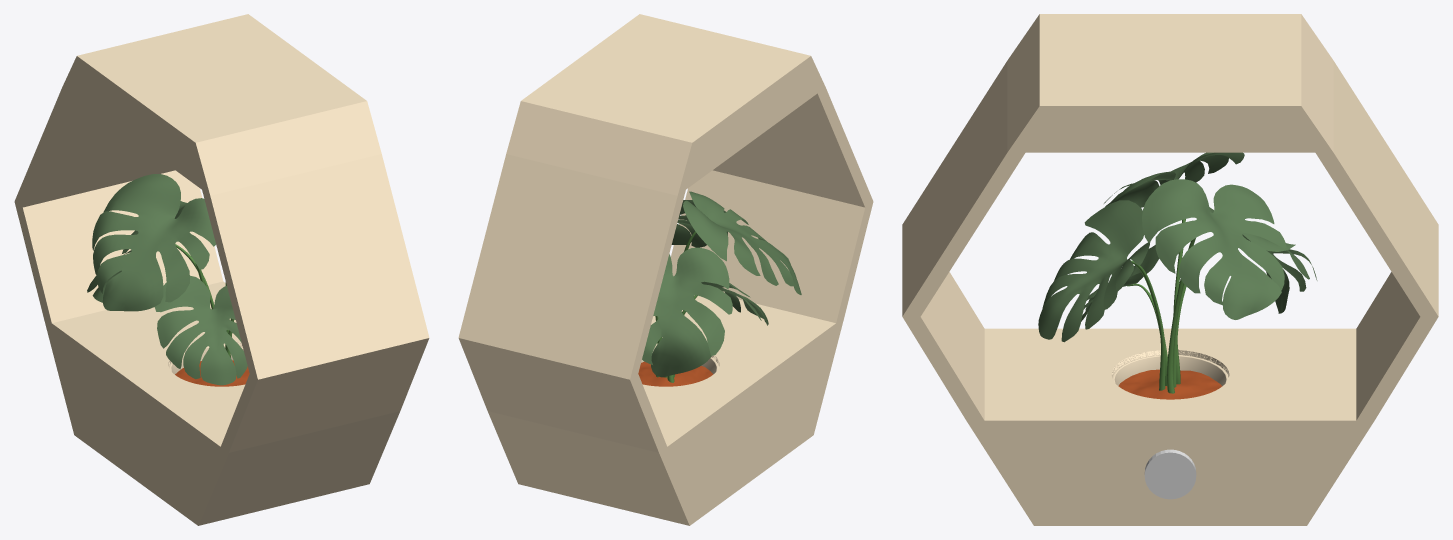
File: PlanterLabTech.fbx
The picture shows the model from 3 angles, left to right: view 1: azimuth 30°, elevation 25°; view 2: azimuth 150°, elevation 25°; view 3: azimuth 270°, elevation 25°; orthographic projection. The views are drawn at different scales.
Visible parts, largest first — view 1: Cube.002, Cube.007, Cube.011; view 2: Cube.002, Cube.007, Cube.003, Cube.011; view 3: Cube.002, Cube.007, Cube.003, Cube.011, Cube.005, Cube.001.
Boxes of the visible parts, x1=… form: Cube.002: x1=14, y1=14, x2=429, y2=525; Cube.007: x1=87, y1=174, x2=247, y2=385; Cube.011: x1=175, y1=360, x2=249, y2=386; Cube.002: x1=458, y1=14, x2=873, y2=525; Cube.007: x1=642, y1=191, x2=801, y2=382; Cube.003: x1=506, y1=101, x2=691, y2=195; Cube.011: x1=638, y1=361, x2=713, y2=386; Cube.002: x1=902, y1=14, x2=1438, y2=525; Cube.007: x1=1038, y1=152, x2=1317, y2=393; Cube.003: x1=1301, y1=14, x2=1333, y2=152; Cube.011: x1=1118, y1=369, x2=1222, y2=399; Cube.005: x1=1144, y1=449, x2=1196, y2=499; Cube.001: x1=1151, y1=458, x2=1189, y2=493.
Size of the model in its own units: 290 by 425 by 492.
